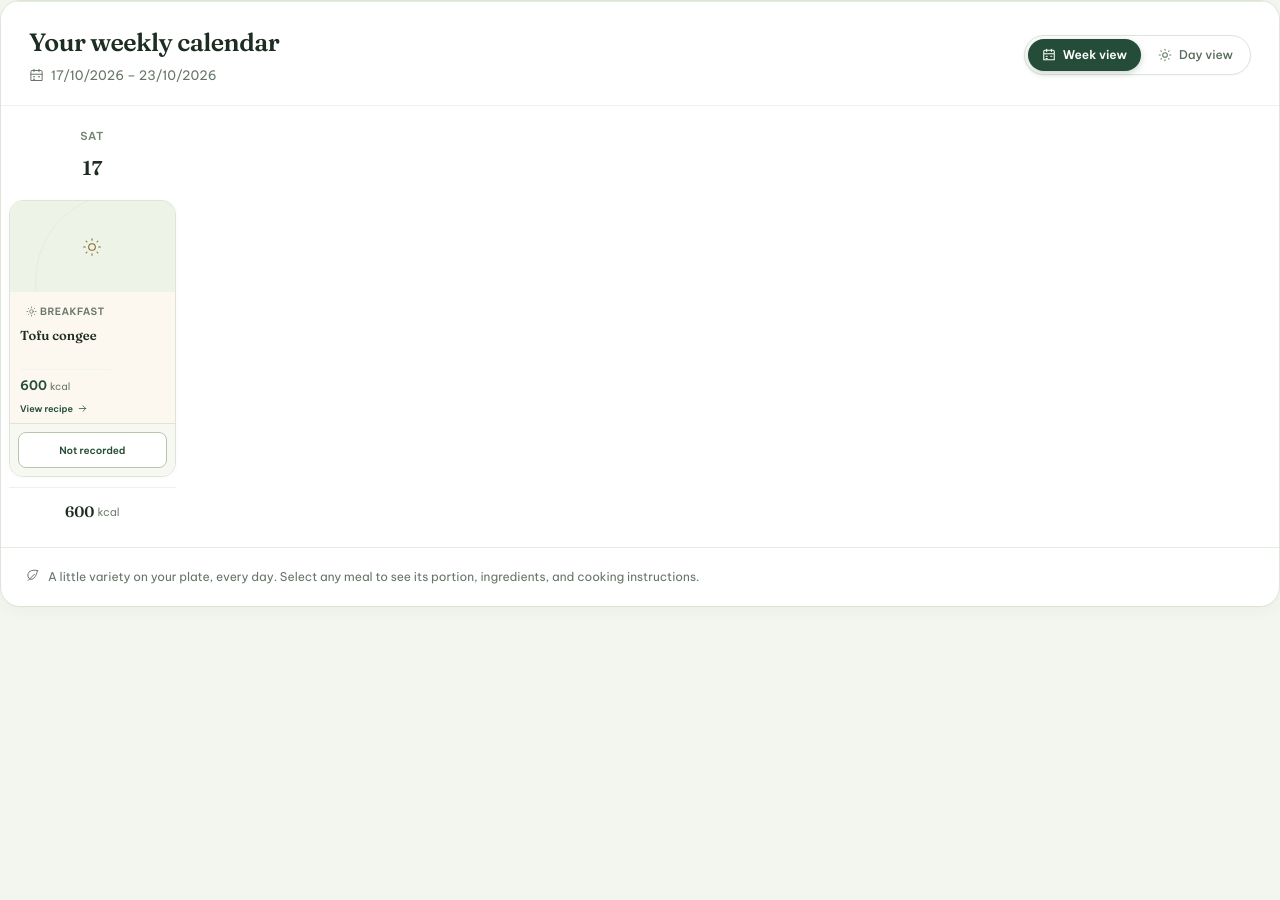
Test: week calendar uses the same two-state button without a combo box
Click the button with class "wm-follow-button" at [92, 450], box 18,432 -> 167,468
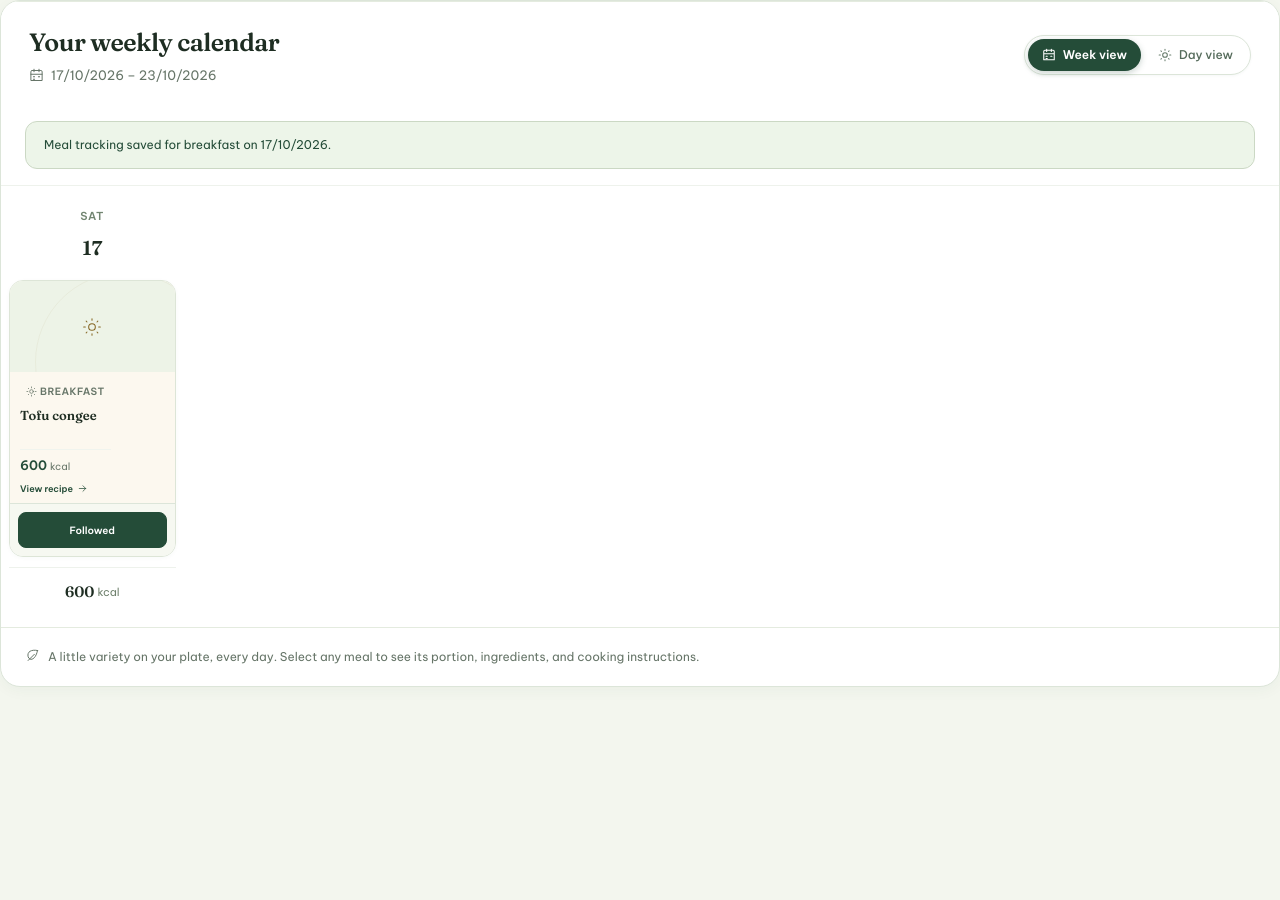
Expected: the button with class "wm-follow-button" reads "Followed", 18,512 -> 167,548
